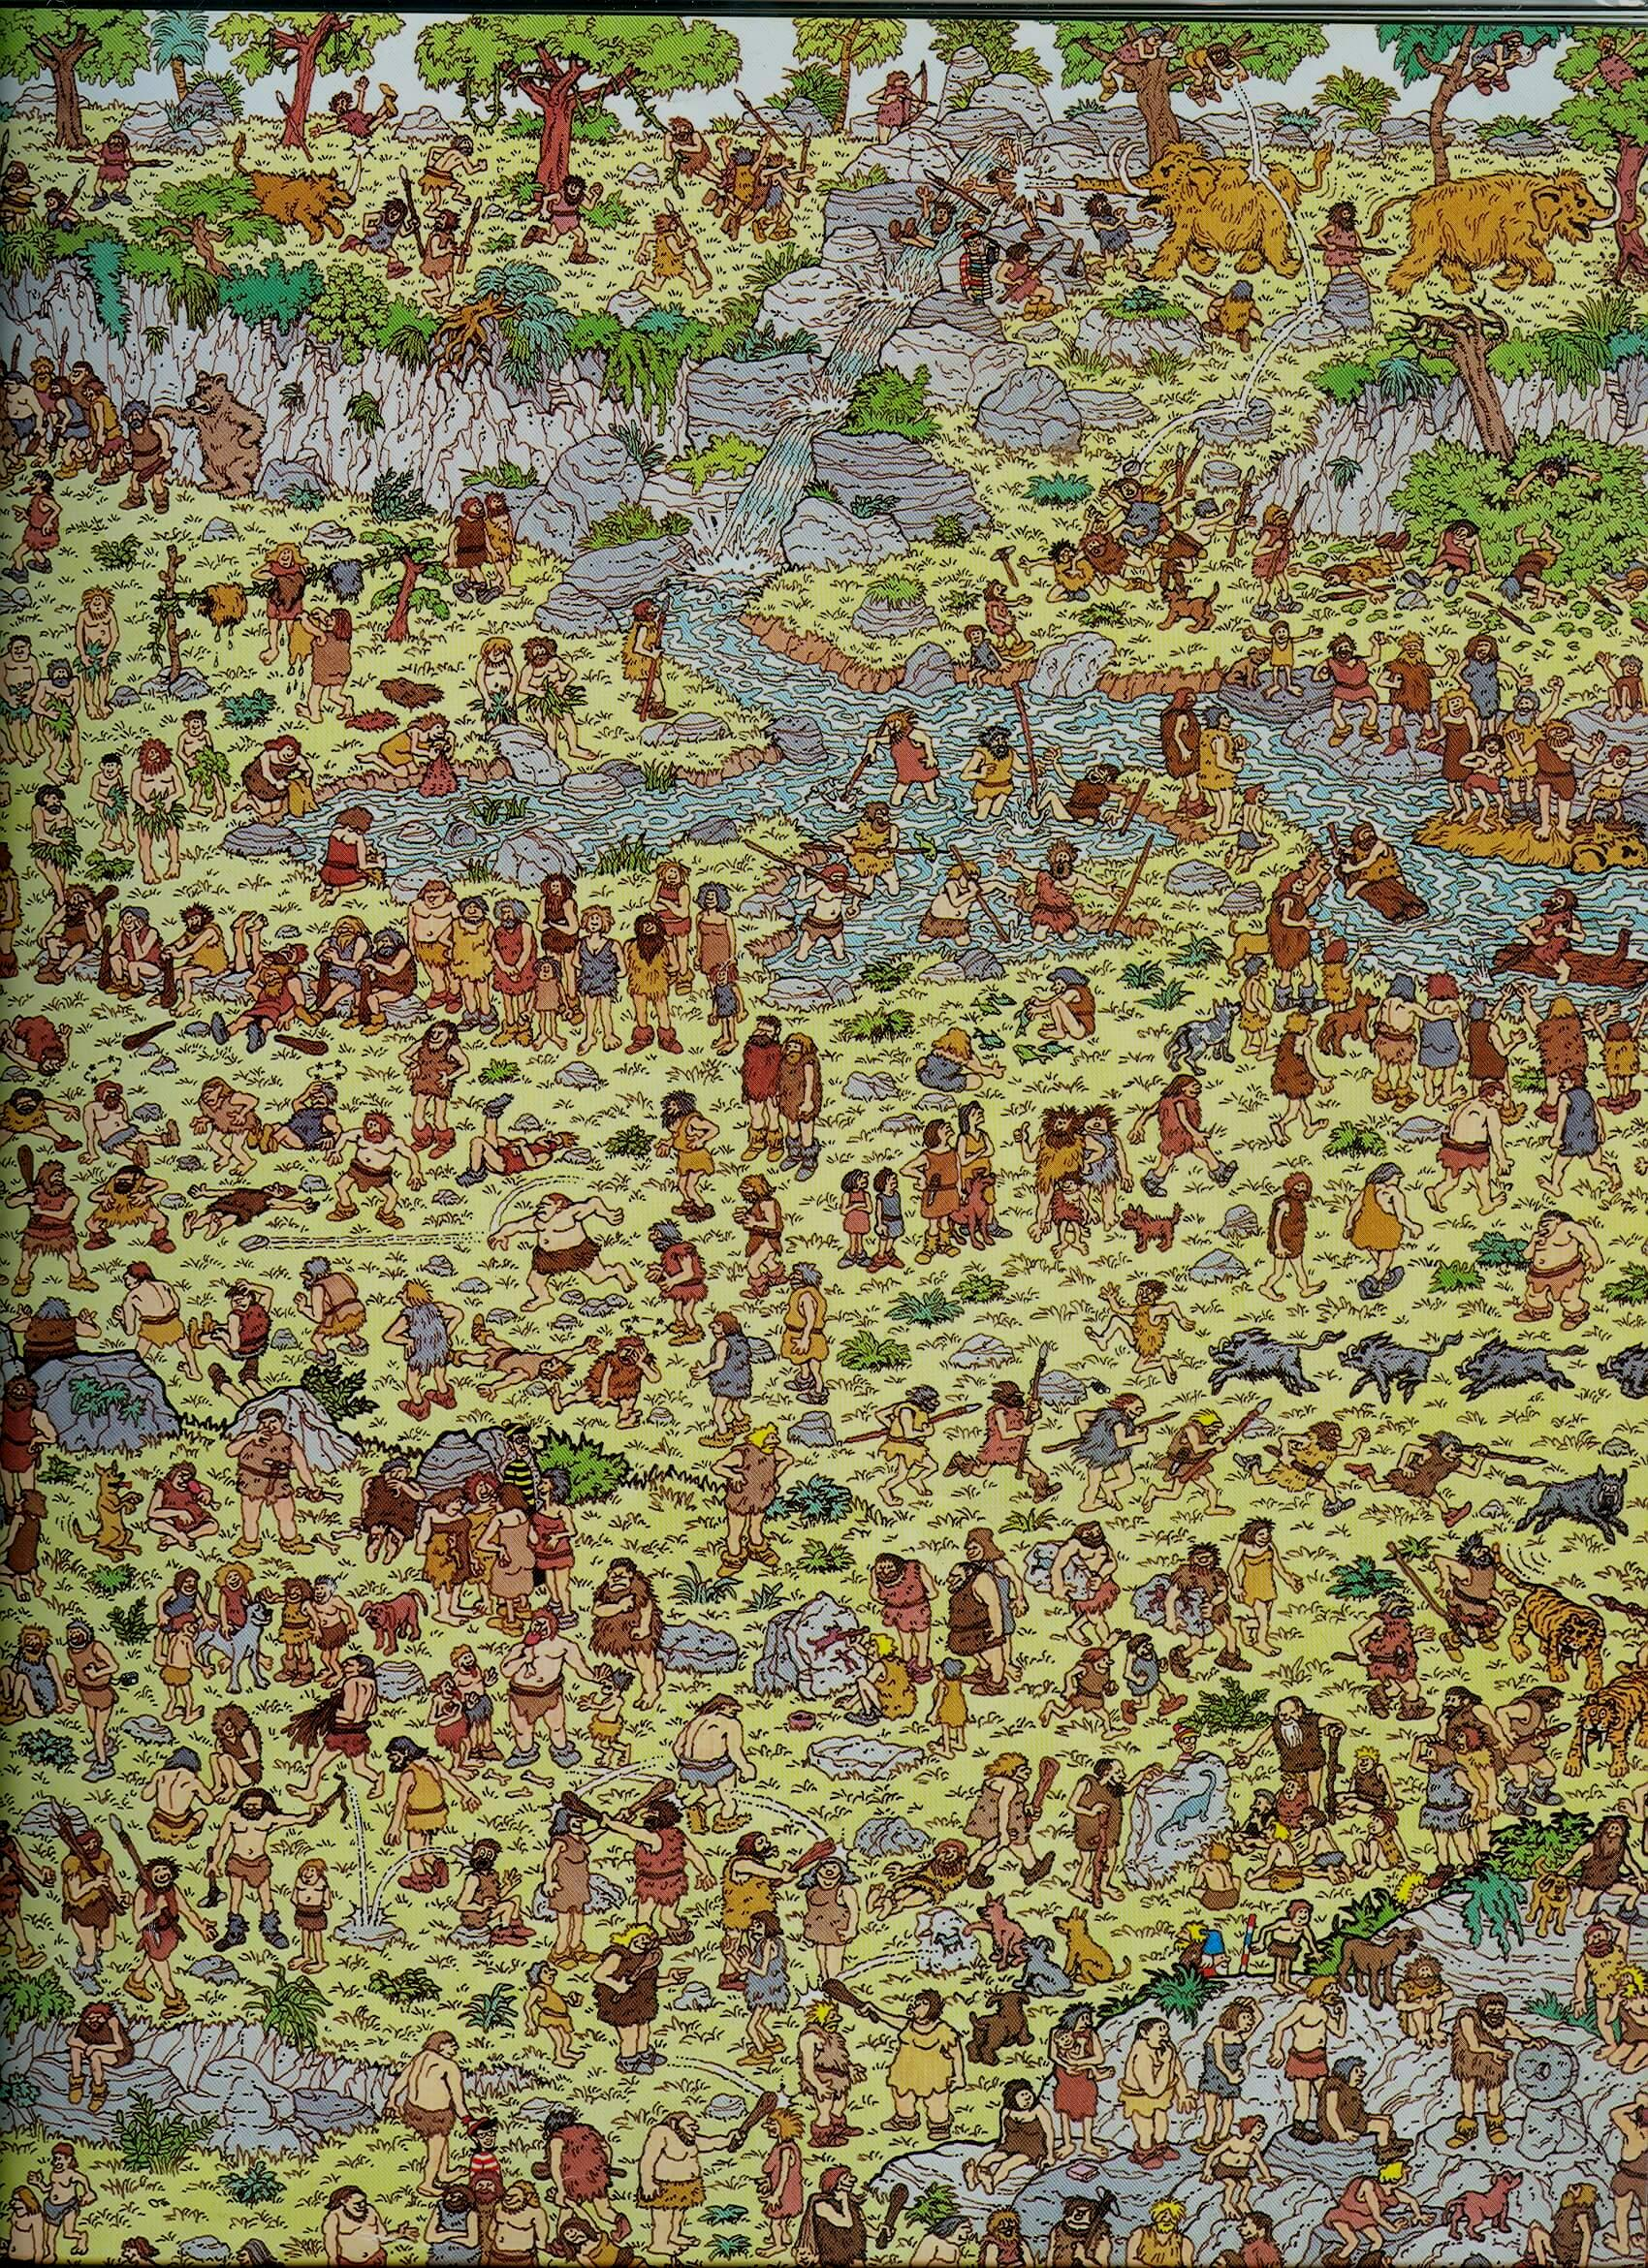waldos: (956, 218, 998, 305)
